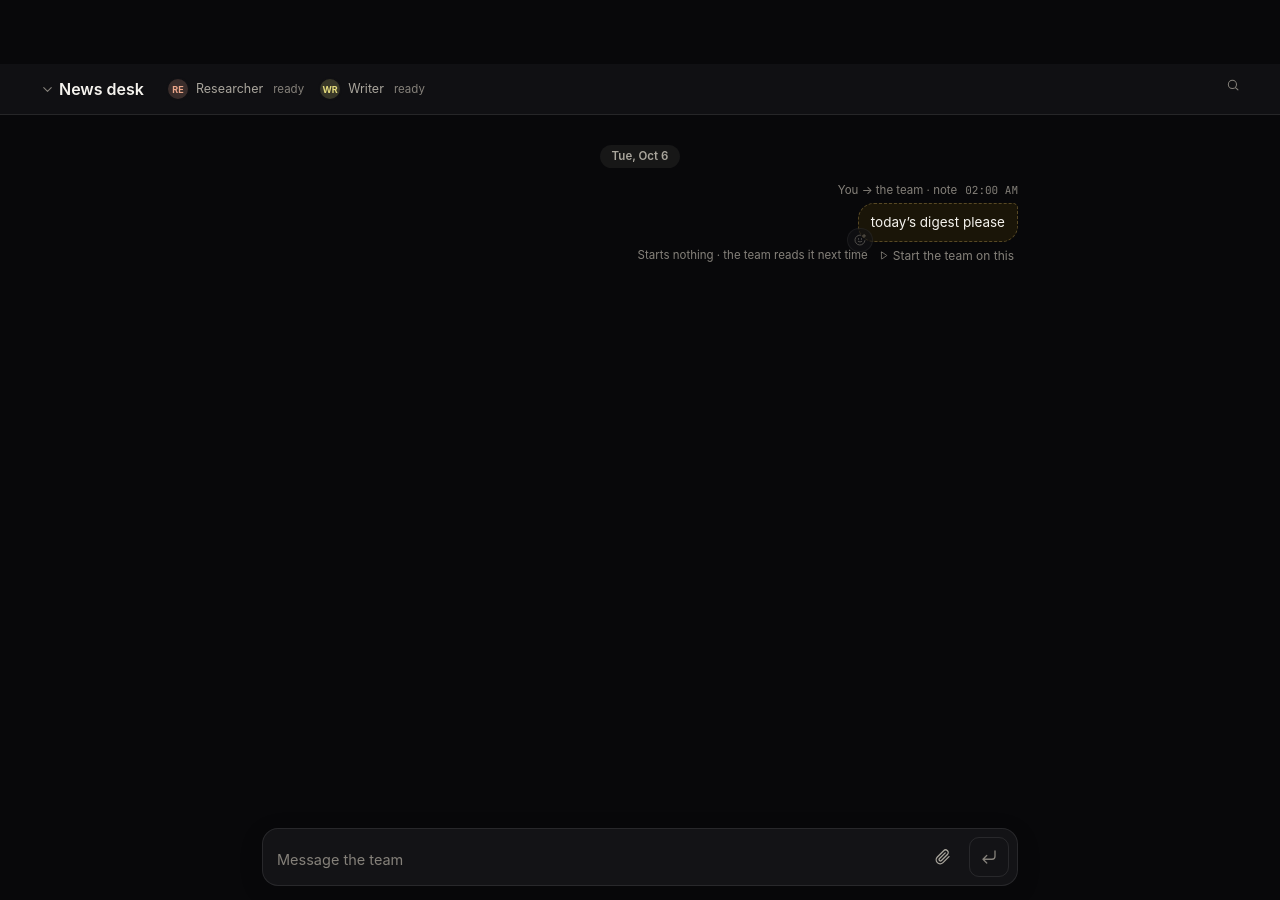
the team’s chat › never lets a note dead-end: a team note can start the team
Click the button "Start the team on this" at coordinates (946, 256), box top-left (878, 245), bottom-right (1014, 267)
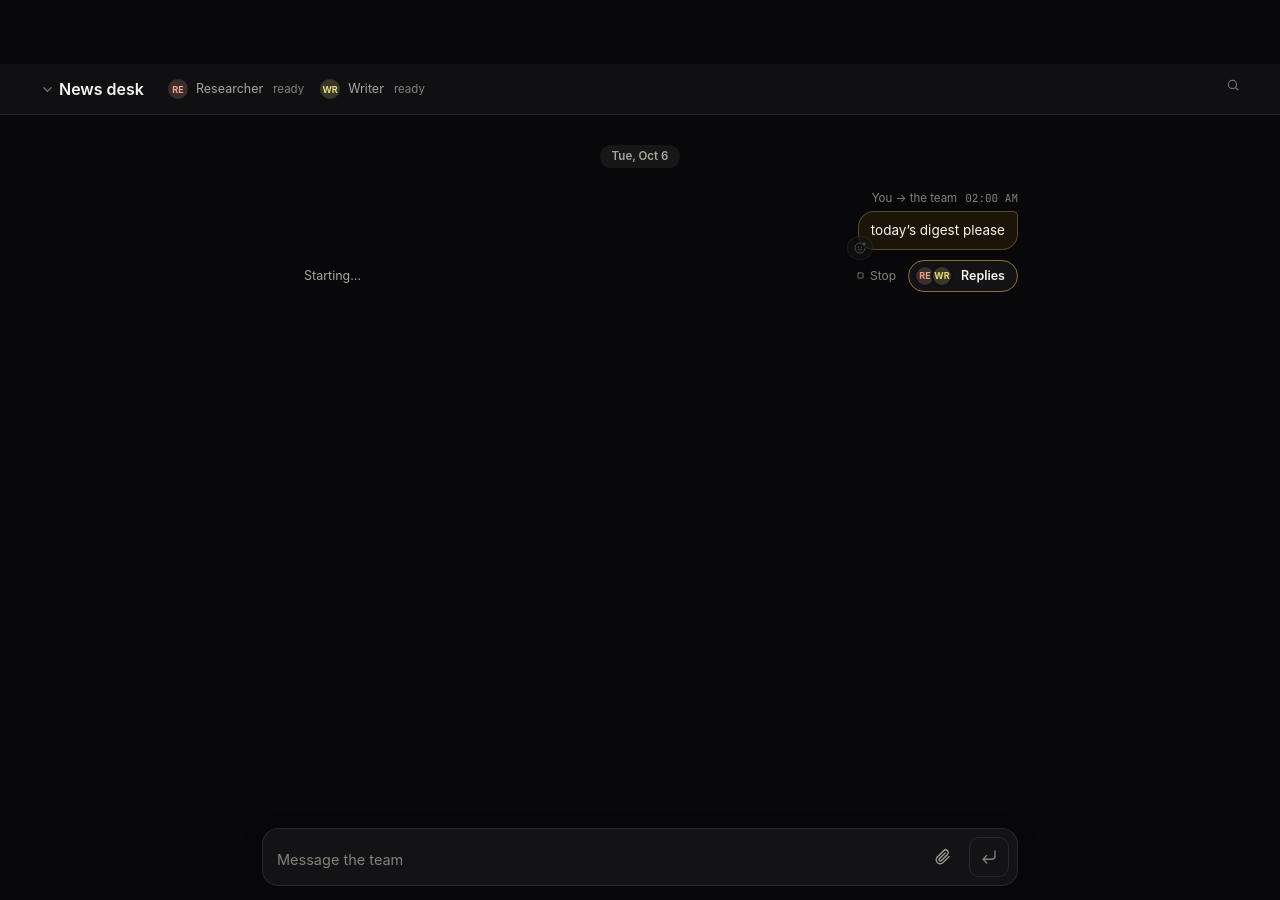
Result: the text "Starting…" is shown at top-left (304, 264), bottom-right (361, 288)
